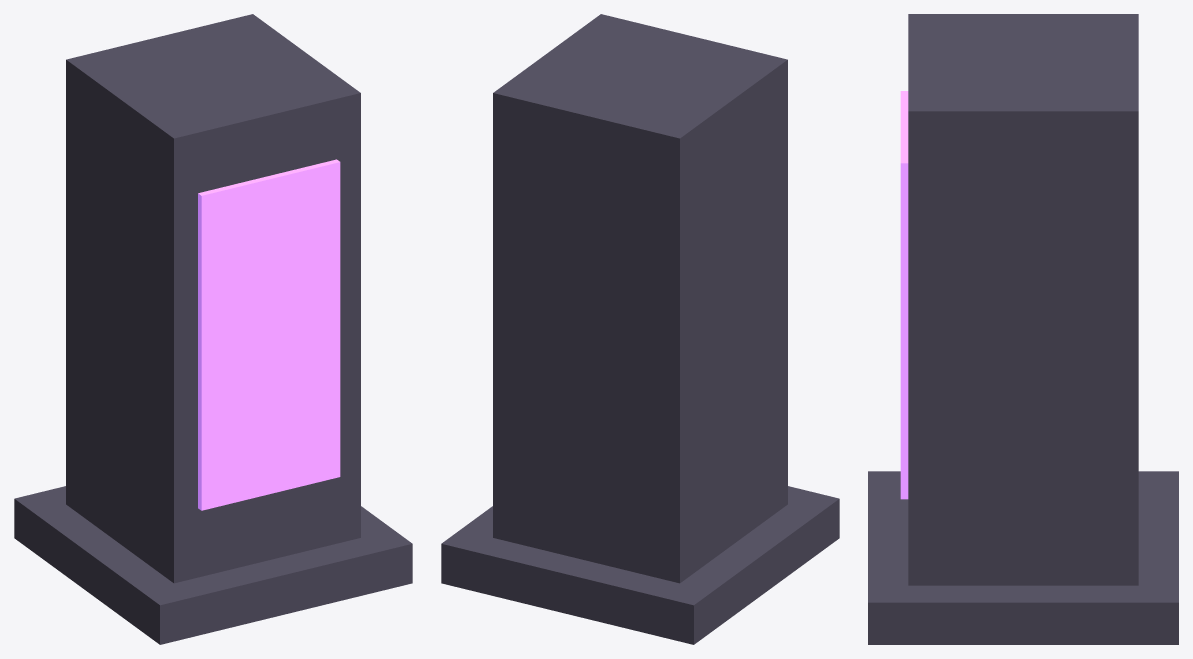
File: signal-kiosk-intact.glb
3 renders of one model, left to right at view 1: azimuth 30°, elevation 25°; view 2: azimuth 150°, elevation 25°; view 3: azimuth 270°, elevation 25°, orthographic. The views are drawn at different scales.
Parts seen in each view (by area): view 1: housing, signal, base; view 2: housing, base; view 3: housing, base, signal.
Part boxes in pixels (box(x1,y1,x2,y2)): housing: box(66, 14, 360, 583); signal: box(198, 159, 340, 510); base: box(14, 486, 412, 644); housing: box(493, 14, 787, 583); base: box(441, 486, 839, 644); housing: box(908, 14, 1138, 585); base: box(868, 471, 1178, 644); signal: box(900, 91, 908, 499).
Bounding box in the file's own units: 1.2 × 2.2 × 1.2.
